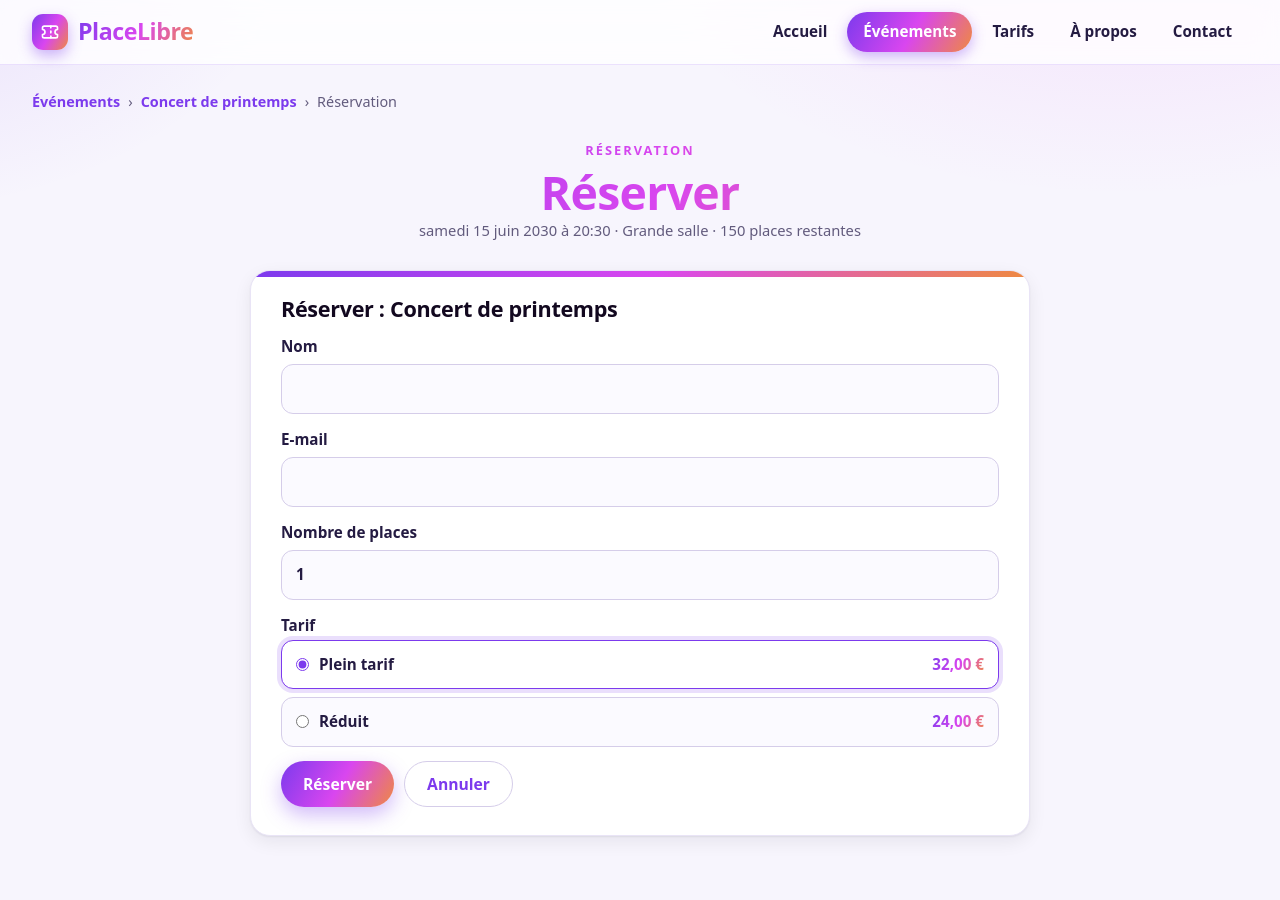
Test: page de réservation (/evenements/:id/reserver) › signale « déjà enregistrée » quand l'API rejoue la demande (200)
In the field labelled "Nom": (640, 389) [281, 364, 999, 414], type "Ada"
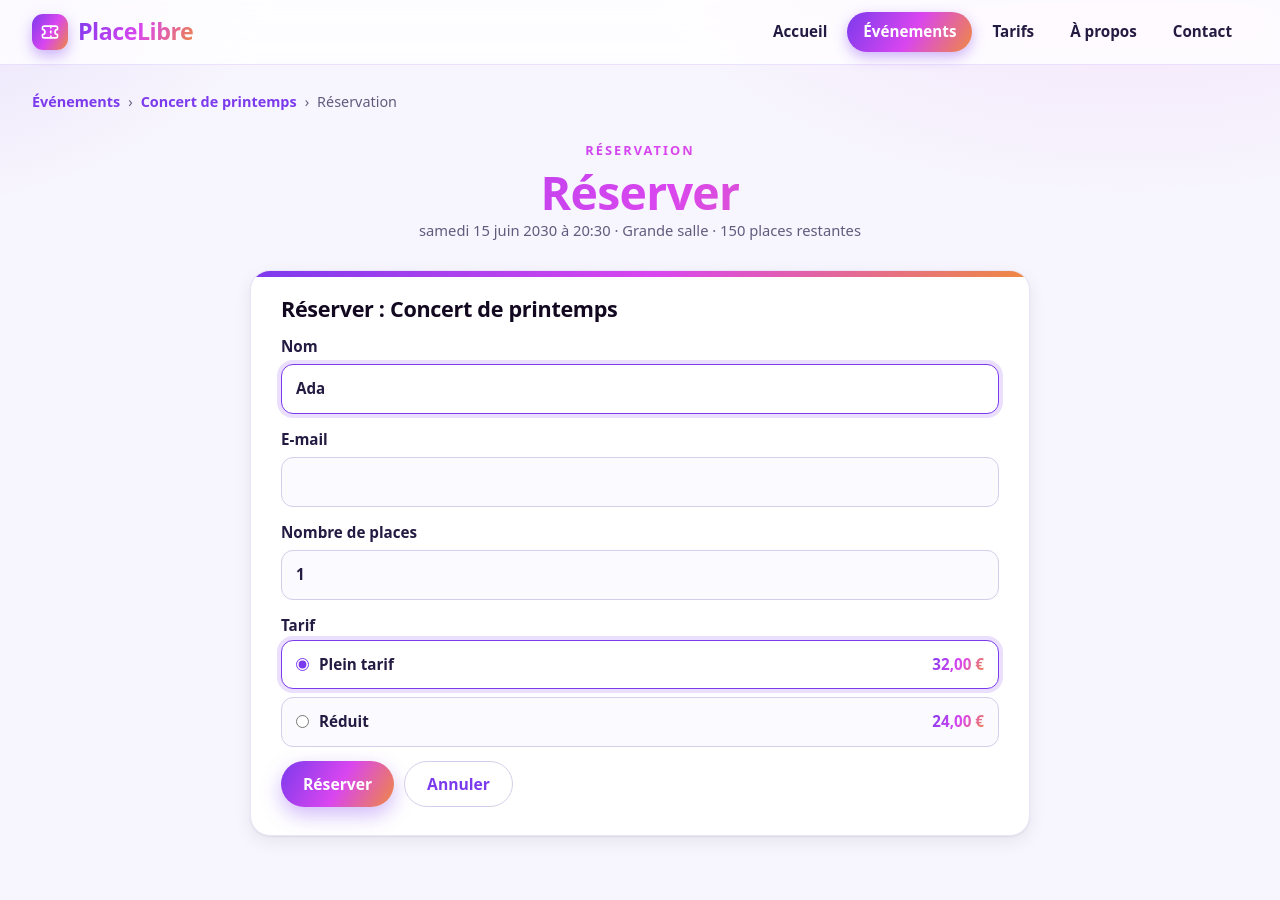
In the field labelled "E-mail": (640, 482) [281, 457, 999, 507], type "ada@example.com"
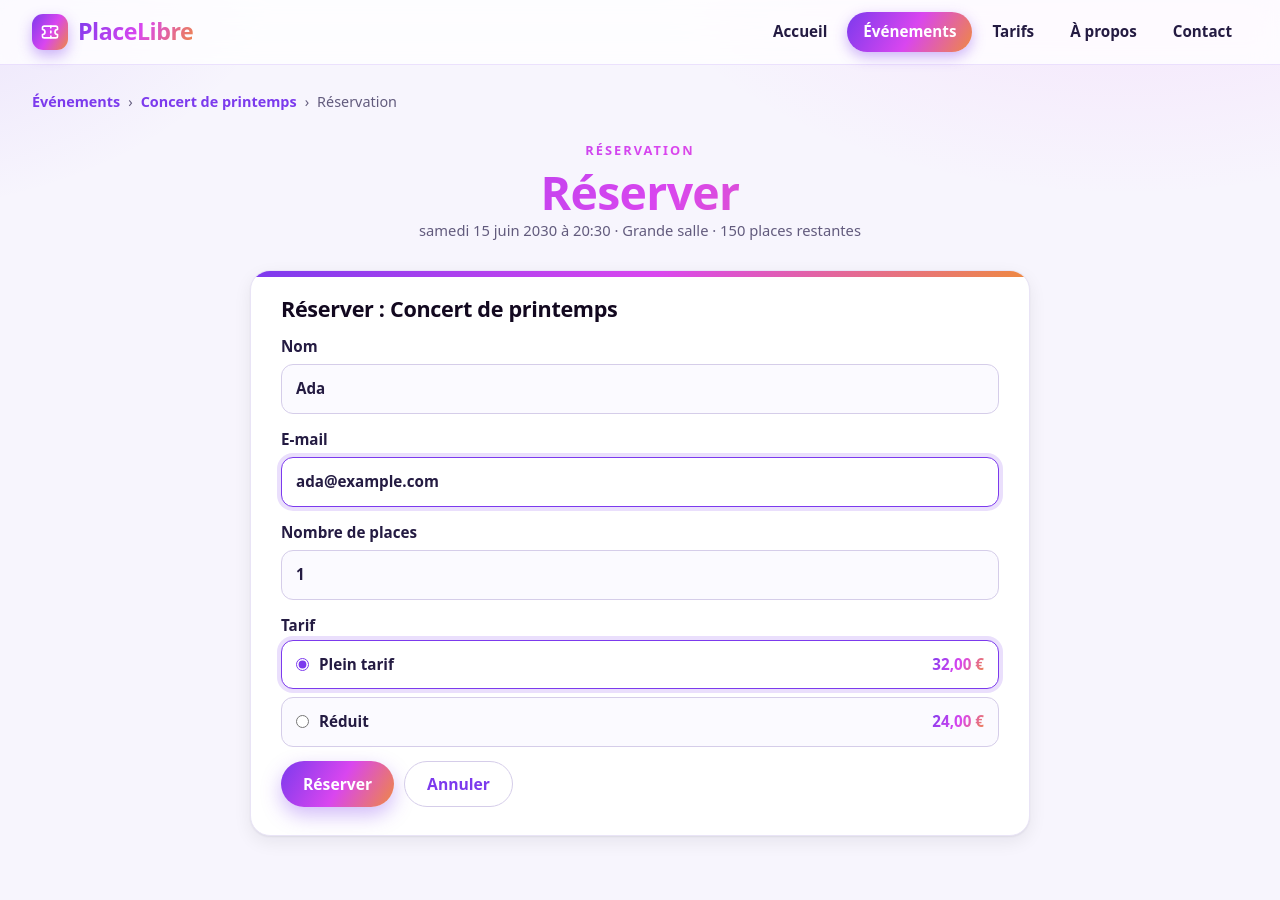
Click the button "Réserver": (338, 784) [281, 761, 394, 807]
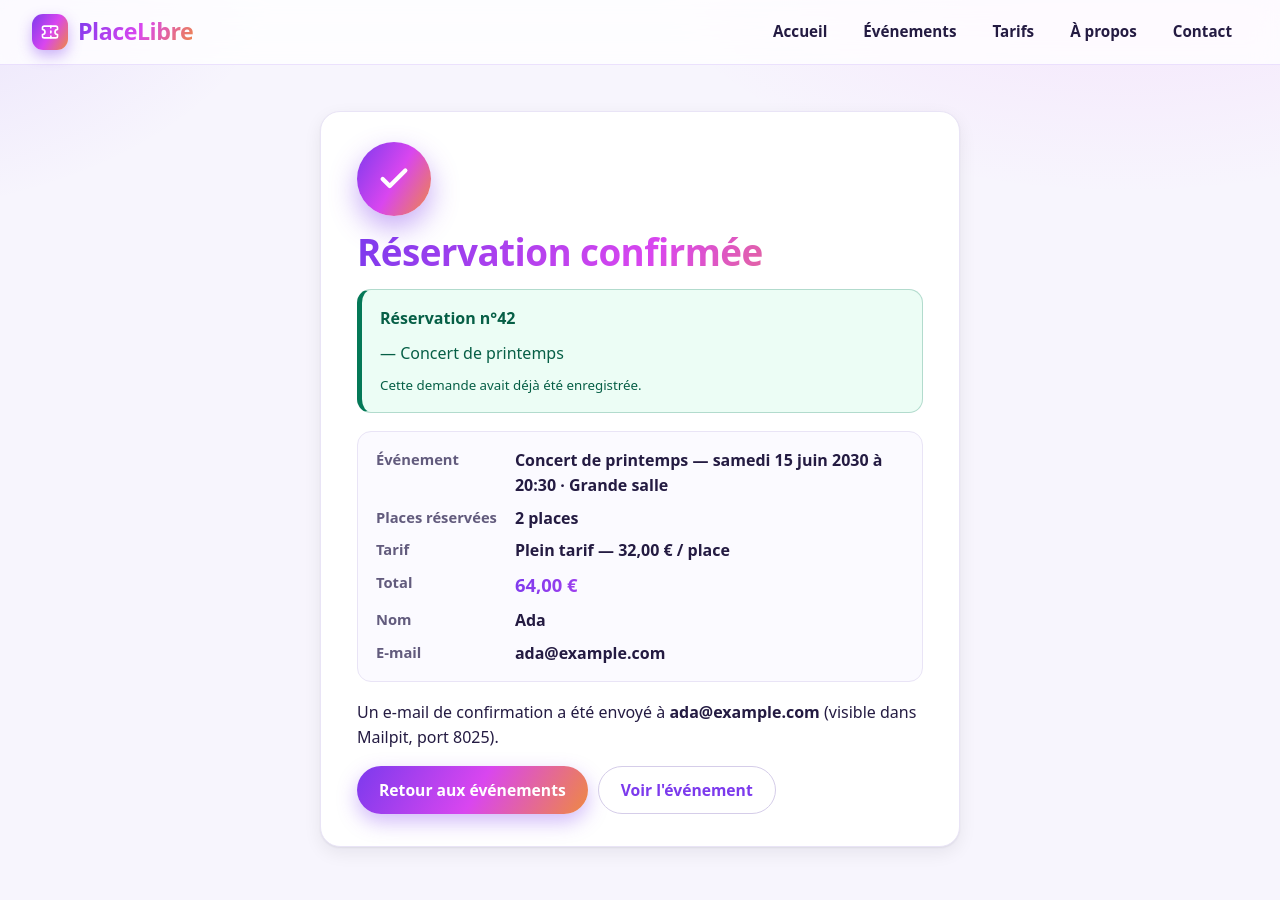
expect the message shows "déjà été enregistrée": met, box [380, 376, 642, 394]
